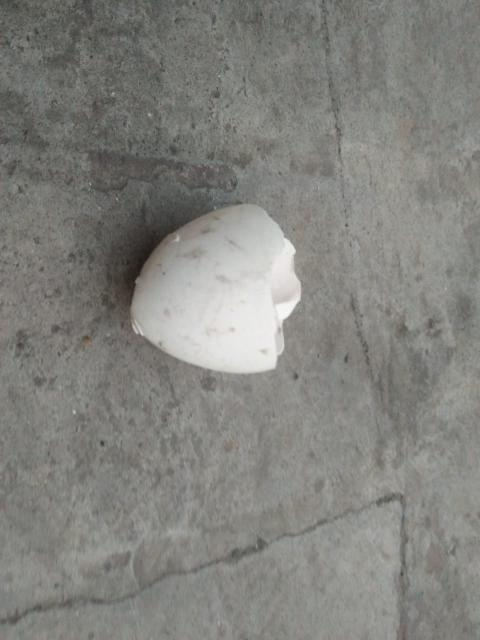Roto: (128, 202, 302, 374)
